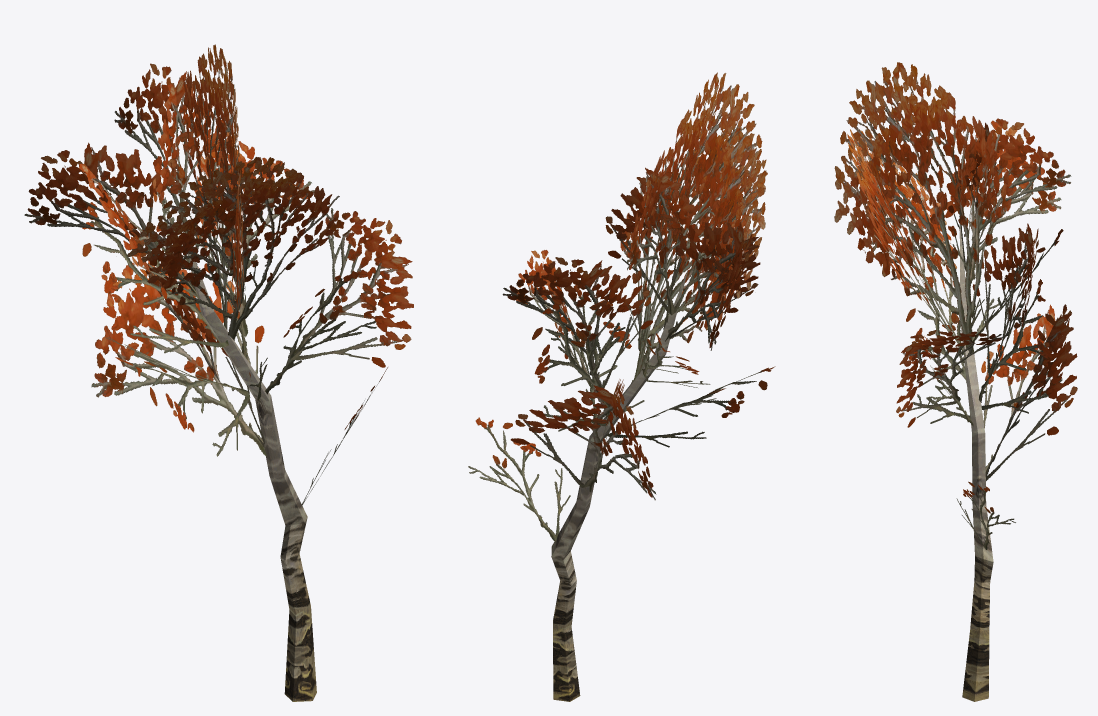
The model's file is hua_shu_001_c.FBX.
3 renders of one model, left to right at view 1: azimuth 30°, elevation 25°; view 2: azimuth 150°, elevation 25°; view 3: azimuth 270°, elevation 25°, orthographic. The views are drawn at different scales.
Parts seen in each view (by area): view 1: hua_shu_001_c; view 2: hua_shu_001_c; view 3: hua_shu_001_c.
Part boxes in pixels (bbox=[...]): hua_shu_001_c: bbox=[24, 44, 413, 701]; hua_shu_001_c: bbox=[468, 72, 775, 701]; hua_shu_001_c: bbox=[834, 62, 1077, 701].
Size of the model in its own units: 280 by 600 by 224.
